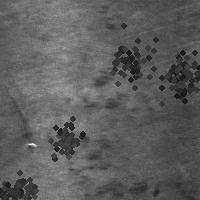rolled-in_scale: (70, 68, 159, 198), (93, 26, 161, 94), (150, 42, 200, 116), (40, 114, 88, 162), (156, 45, 200, 91), (0, 165, 38, 200), (94, 4, 115, 31)
